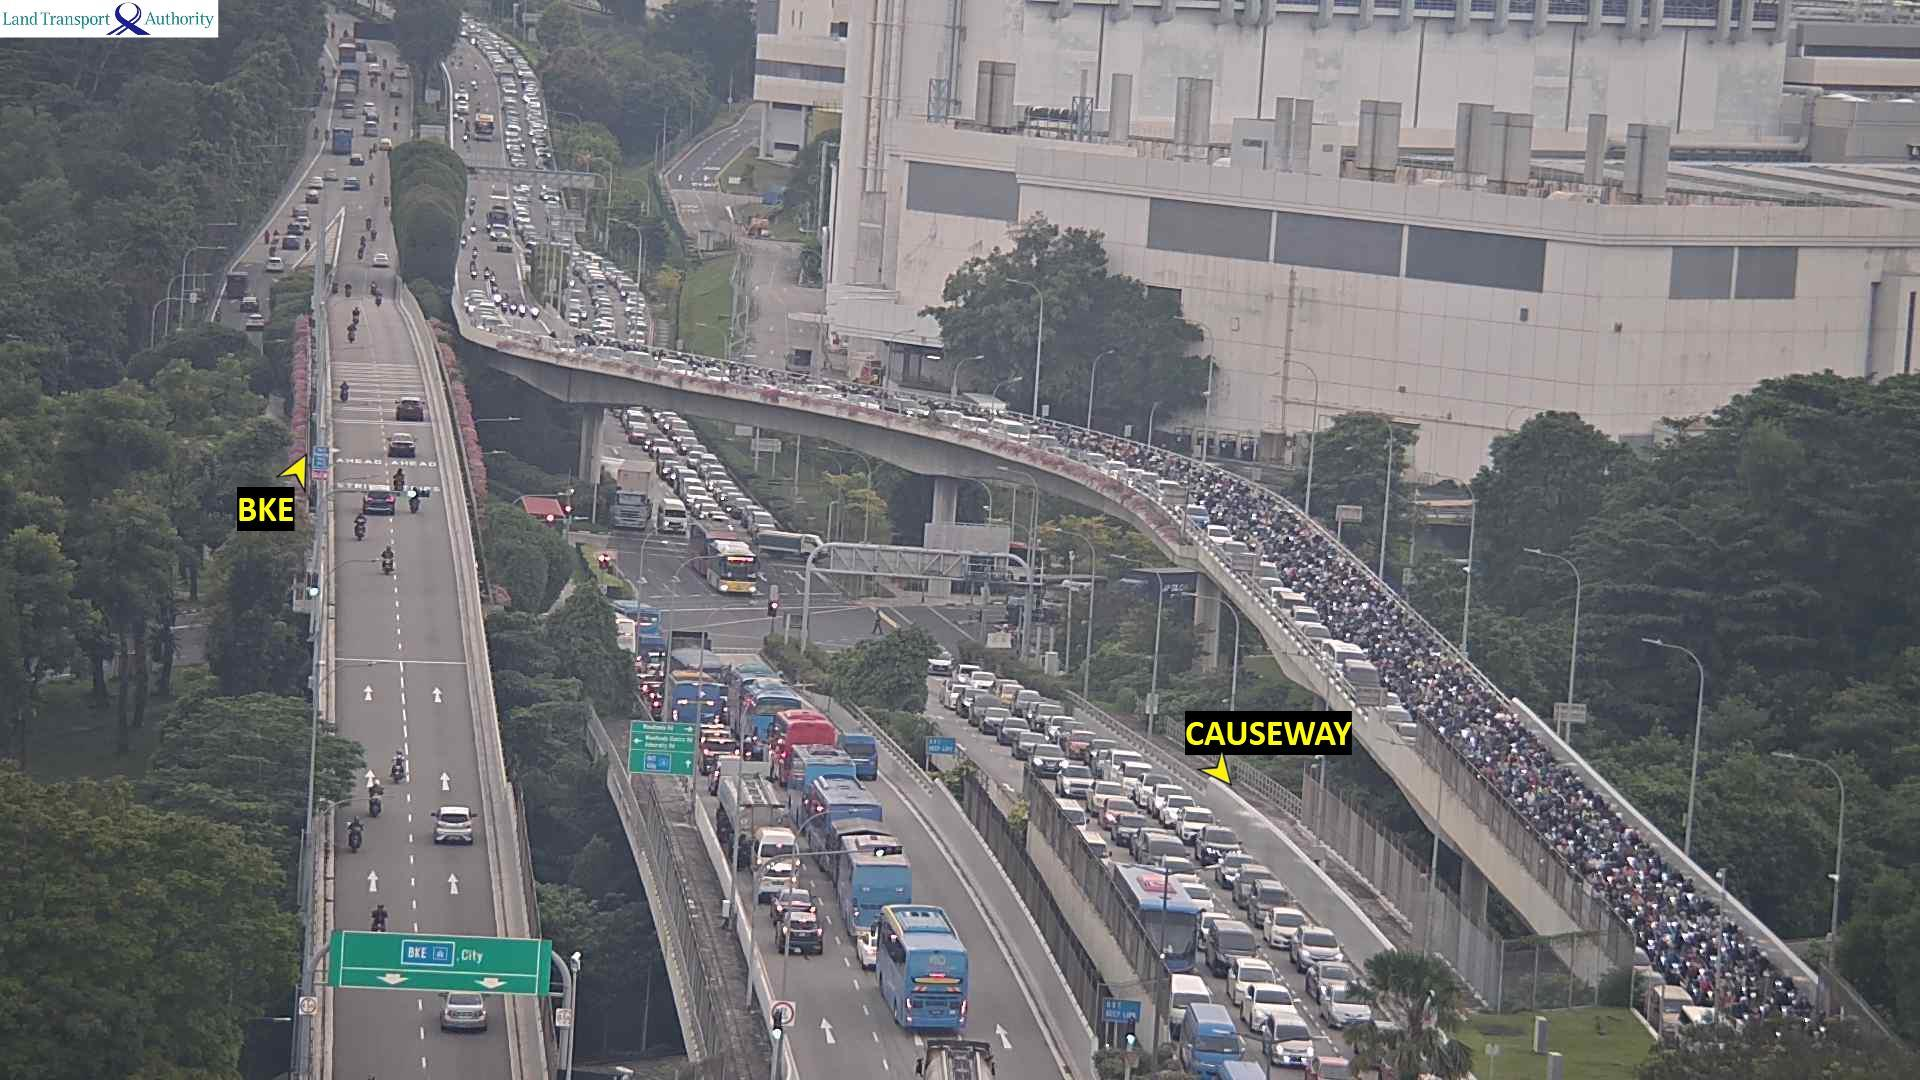vehicle-causeway-johor: (1114, 864, 1195, 972), (1259, 1025, 1316, 1071), (1241, 984, 1298, 1030), (1209, 920, 1255, 976), (1171, 973, 1211, 1035), (1290, 927, 1342, 973), (1178, 1013, 1241, 1050), (1228, 957, 1274, 1006), (1182, 825, 1238, 864), (1253, 906, 1307, 943), (1133, 831, 1187, 865), (1056, 761, 1101, 798), (1178, 815, 1221, 849), (1087, 782, 1125, 816), (1199, 913, 1232, 952), (959, 694, 1005, 721), (1030, 744, 1067, 777), (1055, 798, 1085, 836), (1098, 799, 1138, 828), (1071, 736, 1110, 764), (1080, 832, 1108, 870), (1113, 814, 1146, 845), (1011, 732, 1047, 761), (1216, 1060, 1265, 1080), (1172, 807, 1209, 832), (997, 719, 1030, 745), (1040, 715, 1077, 736), (975, 711, 1009, 731), (487, 212, 509, 241), (469, 262, 476, 280), (471, 245, 479, 258), (460, 235, 468, 247), (471, 222, 477, 233), (484, 266, 489, 280)
vehicle-causeway-singapore: (874, 913, 971, 1033), (808, 777, 881, 868), (837, 851, 911, 934), (719, 764, 781, 847), (793, 744, 856, 818), (775, 712, 835, 781), (816, 802, 889, 849), (666, 683, 728, 729), (744, 824, 798, 864), (777, 911, 823, 956), (436, 996, 489, 1034), (429, 806, 477, 845), (837, 735, 877, 778), (754, 864, 799, 901), (769, 889, 816, 920), (700, 738, 736, 771), (365, 491, 393, 514), (397, 398, 426, 421), (389, 434, 414, 456), (348, 818, 361, 849), (353, 516, 371, 539), (393, 746, 404, 778), (375, 902, 388, 926), (371, 779, 380, 811), (384, 545, 393, 572), (396, 467, 406, 487), (411, 487, 419, 512), (342, 381, 348, 402), (348, 323, 355, 344), (353, 306, 359, 323)
vehicle-secondlink-singapore: (1346, 662, 1375, 699), (1327, 644, 1366, 670), (992, 421, 1029, 447), (881, 398, 927, 418), (657, 359, 690, 377), (1205, 525, 1232, 547), (1398, 723, 1423, 745), (698, 367, 729, 384), (624, 351, 654, 368), (489, 272, 497, 281)
